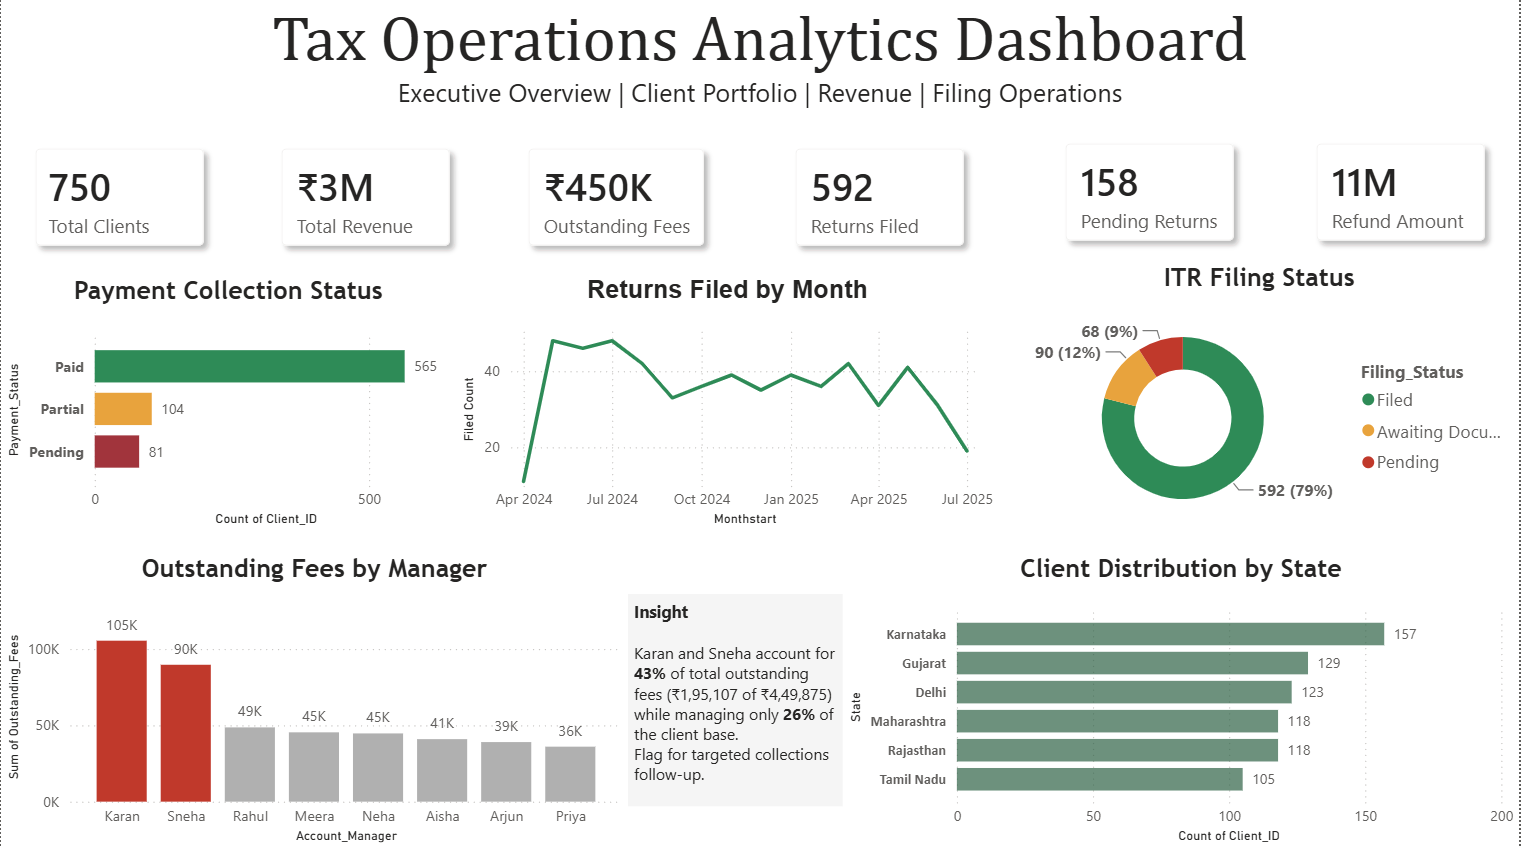

This screenshot's page, from the dashboard's own definition file:
{"tool":"powerbi","page":{"name":"Executive Overview","canvas":[1280,720],"ordinal":0},"visuals":[{"type":"cardVisual","fields":{"Data":["Tax_Operations.Total Clients"]},"box":[0,101.5,200,140],"z":0},{"type":"cardVisual","fields":{"Data":["Tax_Operations.Total Revenue"]},"box":[207.2,101.5,200,140],"z":1000},{"type":"cardVisual","fields":{"Data":["Tax_Operations.Outstanding Fees"]},"box":[415.5,101.5,206,140],"z":2000},{"type":"cardVisual","fields":{"Data":["Tax_Operations.Returns Filed"]},"box":[640.5,101.5,200,140],"z":3000},{"type":"cardVisual","fields":{"Data":["Tax_Operations.Pending Returns"]},"box":[868.7,97.3,200,140],"z":4000},{"type":"cardVisual","fields":{"Data":["Tax_Operations.Refund Amount"]},"box":[1080.1,97.3,200,140],"z":5000},{"type":"textbox","box":[0,0,1280,101.5],"z":6000},{"type":"donutChart","title":"ITR Filing Status","fields":{"Category":["Tax_Operations.Filing_Status"],"Y":["CountNonNull(Tax_Operations.Client_ID)"]},"box":[841.1,226.2,438.9,227.1],"z":7000},{"type":"clusteredBarChart","title":"Payment Collection Status","fields":{"Category":["Tax_Operations.Payment_Status"],"Y":["CountNonNull(Tax_Operations.Client_ID)"]},"box":[0,237,383.3,216.3],"z":8000},{"type":"clusteredColumnChart","title":"Outstanding Fees by Manager","fields":{"Category":["Tax_Operations.Account_Manager"],"Y":["Sum(Tax_Operations.Outstanding_Fees)"]},"box":[0,471.2,528.7,248.6],"z":9000},{"type":"barChart","title":"Client Distribution by State","fields":{"Category":["Tax_Operations.State"],"Y":["CountNonNull(Tax_Operations.Client_ID)"]},"box":[710,471.2,570,248.6],"z":10000},{"type":"lineChart","title":"Returns Filed by Month","fields":{"Category":["Measure.Monthstart"],"Y":["Tax_Operations.Filed Count"]},"box":[383.3,237,457.8,216.3],"z":11000},{"type":"textbox","box":[528.7,506.3,181.3,178.6],"z":12000}]}

Visuals, with their boxes in screenshot pixels (x1, y1, x2, y2), scaled from the page's 1280x720 canvas onto the 1521x848 screenshot:
cardVisual - Tax_Operations.Total Clients: {"x1": 0, "y1": 120, "x2": 238, "y2": 284}
cardVisual - Tax_Operations.Total Revenue: {"x1": 246, "y1": 120, "x2": 484, "y2": 284}
cardVisual - Tax_Operations.Outstanding Fees: {"x1": 494, "y1": 120, "x2": 739, "y2": 284}
cardVisual - Tax_Operations.Returns Filed: {"x1": 761, "y1": 120, "x2": 999, "y2": 284}
cardVisual - Tax_Operations.Pending Returns: {"x1": 1032, "y1": 115, "x2": 1270, "y2": 279}
cardVisual - Tax_Operations.Refund Amount: {"x1": 1283, "y1": 115, "x2": 1520, "y2": 279}
textbox: {"x1": 0, "y1": 0, "x2": 1520, "y2": 120}
"ITR Filing Status" donutChart: {"x1": 999, "y1": 266, "x2": 1520, "y2": 534}
"Payment Collection Status" clusteredBarChart: {"x1": 0, "y1": 279, "x2": 455, "y2": 534}
"Outstanding Fees by Manager" clusteredColumnChart: {"x1": 0, "y1": 555, "x2": 628, "y2": 847}
"Client Distribution by State" barChart: {"x1": 844, "y1": 555, "x2": 1520, "y2": 847}
"Returns Filed by Month" lineChart: {"x1": 455, "y1": 279, "x2": 999, "y2": 534}
textbox: {"x1": 628, "y1": 596, "x2": 844, "y2": 807}
